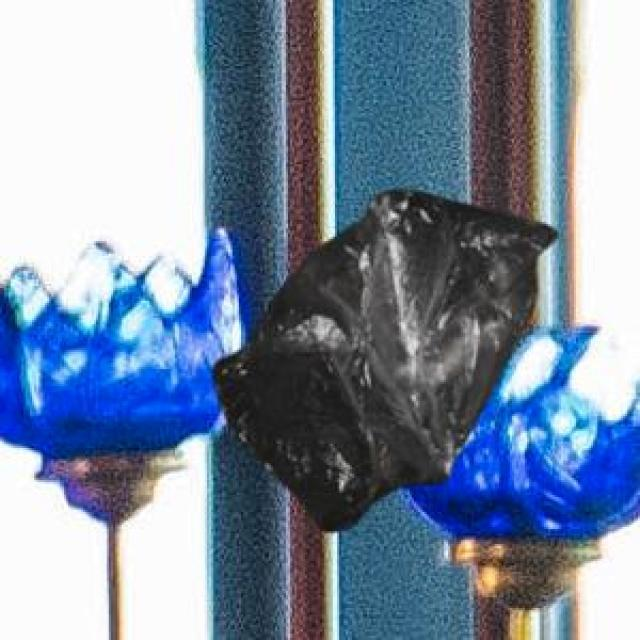Plastic_Bag: (210, 189, 556, 528)
